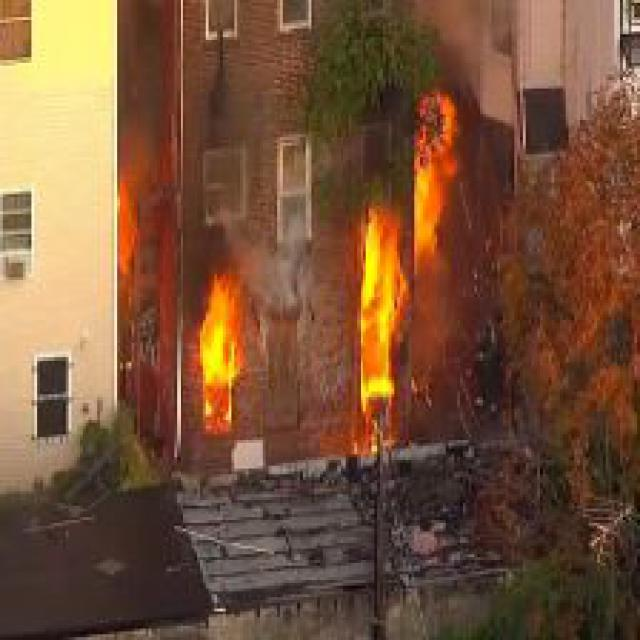fire: (337, 88, 474, 426), (186, 271, 257, 440)
